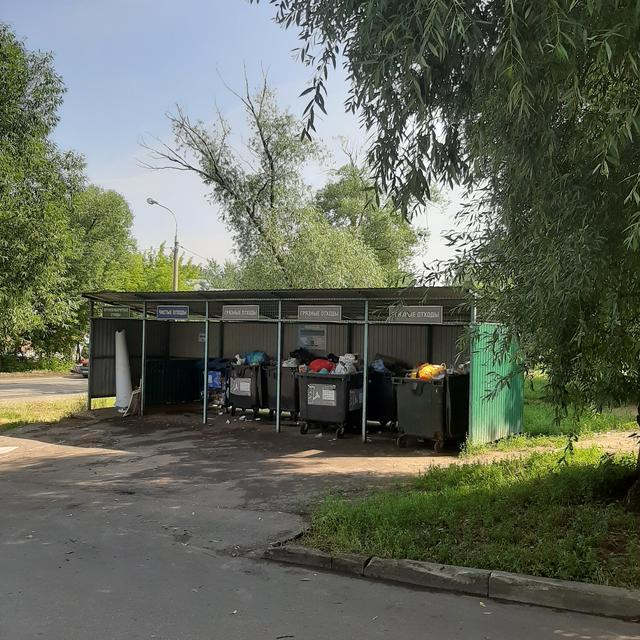Trash_Can_Full: (298, 352, 362, 423), (393, 361, 447, 436), (228, 351, 268, 410), (266, 351, 299, 411)
